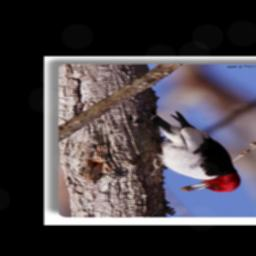Woodpecker: (149, 112, 242, 193)
